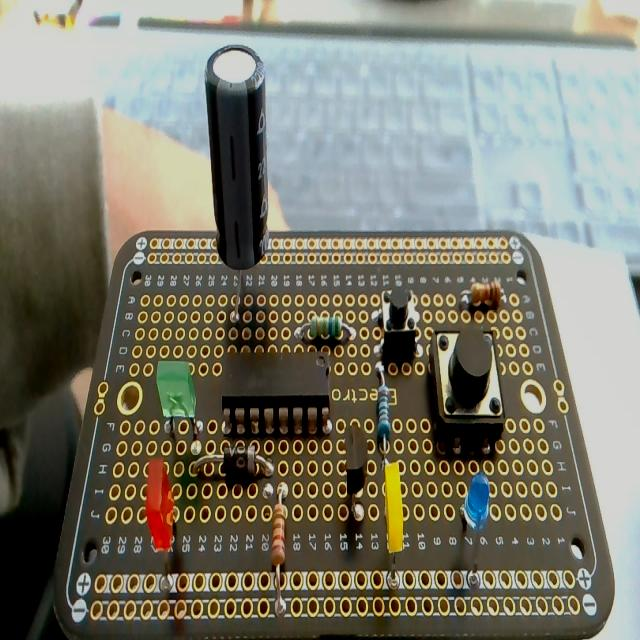Electrolytic capacitor: (206, 48, 270, 320)
IC: (218, 348, 330, 434)
diode: (195, 441, 276, 481)
led: (154, 358, 202, 451), (146, 458, 178, 594), (460, 474, 490, 580), (384, 461, 406, 589)
resistor: (271, 483, 289, 614), (292, 310, 358, 344), (460, 278, 504, 312), (375, 366, 391, 448)
switch: (430, 319, 506, 455), (375, 284, 422, 366)
transistor: (342, 424, 373, 524)
